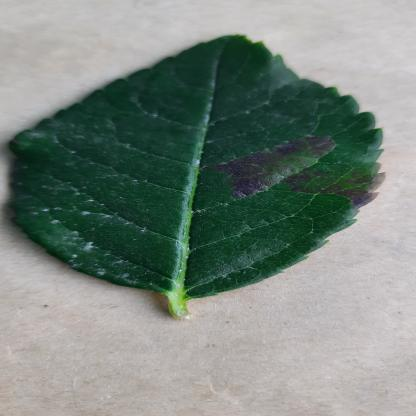downy-mildew: (9, 35, 387, 300)
